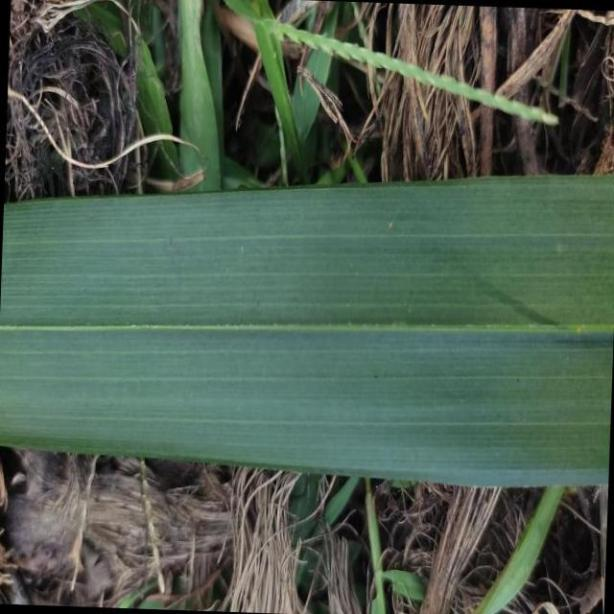Healthy: (0, 172, 612, 489)
